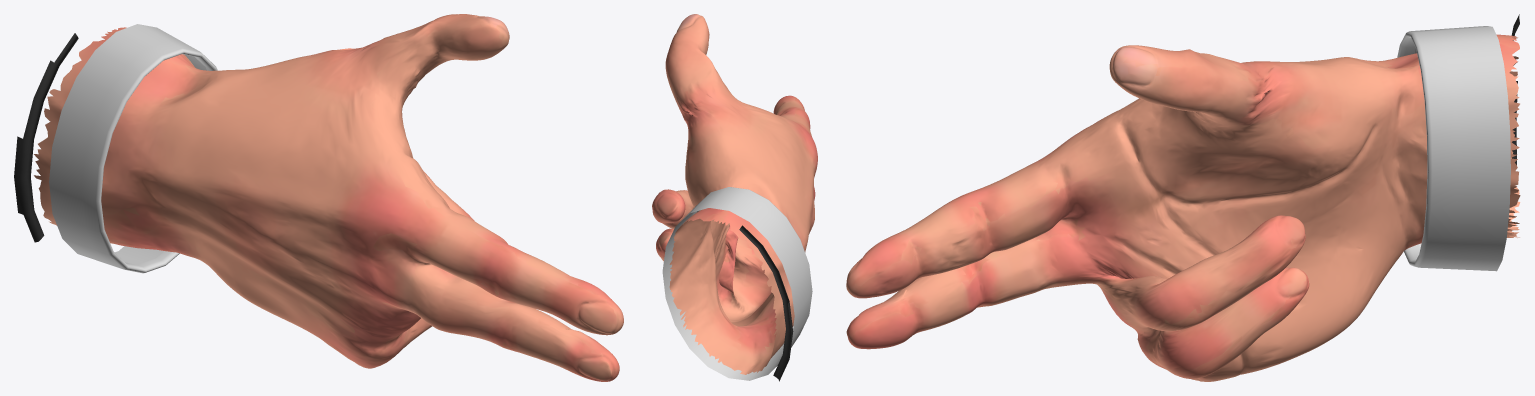
The model's file is JOHNPEWPEWMESH (1).fbx.
The picture shows the model from 3 angles, left to right: view 1: azimuth 30°, elevation 25°; view 2: azimuth 150°, elevation 25°; view 3: azimuth 270°, elevation 25°; orthographic projection. The views are drawn at different scales.
Visible parts, largest first — view 1: Hand; view 2: Hand; view 3: Hand.
Boxes of the visible parts, x1,y1,x2,y2 form: Hand: (14, 14, 623, 381); Hand: (652, 14, 817, 381); Hand: (846, 14, 1520, 381).
Bounding box in the file's own units: 117 × 122 × 195.
